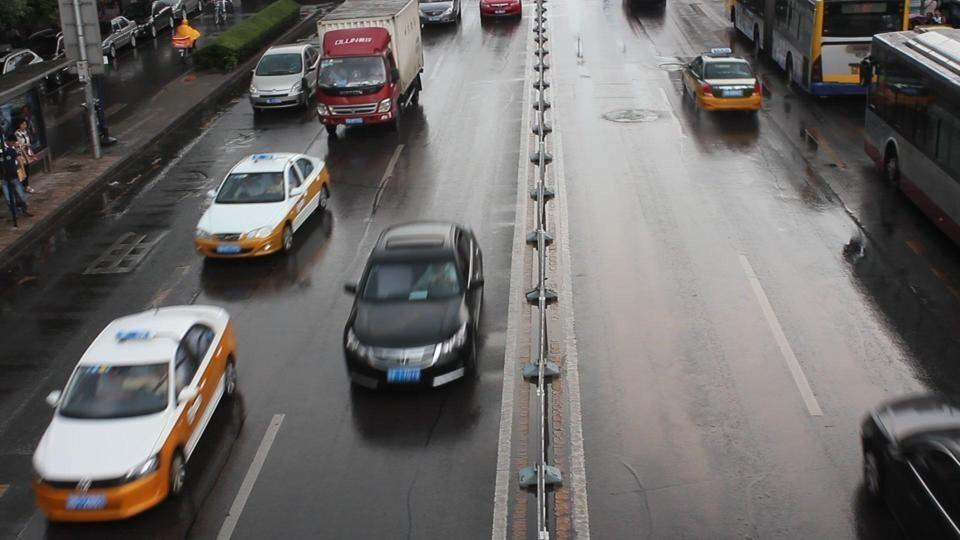car: (30, 304, 244, 525), (341, 221, 486, 391), (855, 391, 960, 536), (193, 151, 333, 258), (680, 52, 764, 114), (248, 42, 322, 112), (418, 0, 462, 26), (479, 0, 522, 18)
